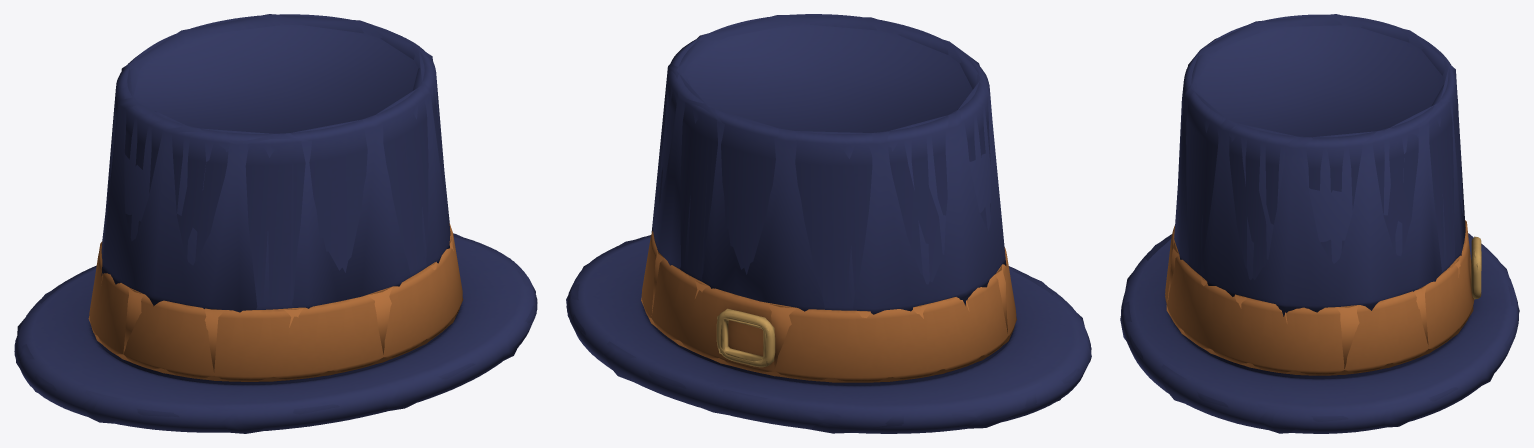
Rendered from test_top_hat.glb.
3 views of the same model, side by side, from view 1: azimuth 30°, elevation 25°; view 2: azimuth 150°, elevation 25°; view 3: azimuth 270°, elevation 25° (orthographic). The views are drawn at different scales.
Parts seen in each view (by area): view 1: near, mid, far; view 2: near, mid, far; view 3: near, mid, far.
Boxes of the visible parts, x1=… form: near: x1=14, y1=14, x2=537, y2=432; mid: x1=14, y1=14, x2=537, y2=432; far: x1=16, y1=14, x2=535, y2=433; near: x1=566, y1=14, x2=1091, y2=433; mid: x1=566, y1=14, x2=1091, y2=433; far: x1=566, y1=15, x2=1091, y2=433; near: x1=1121, y1=14, x2=1518, y2=433; mid: x1=1121, y1=14, x2=1518, y2=433; far: x1=1120, y1=14, x2=1519, y2=433.
Bounding box in the file's own units: 1.28 × 0.6761 × 0.975.
3 materials, 3 textured.
